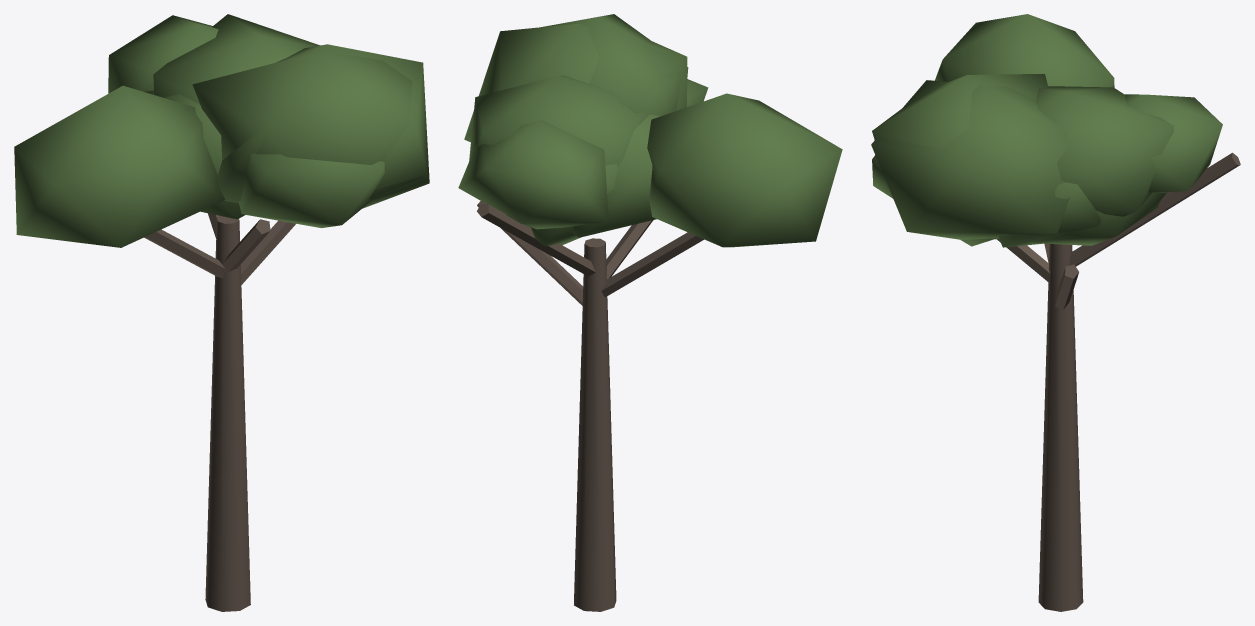
The model's file is ZR_Tree.fbx.
3 renders of one model, left to right at view 1: azimuth 30°, elevation 25°; view 2: azimuth 150°, elevation 25°; view 3: azimuth 270°, elevation 25°, orthographic. The views are drawn at different scales.
Visible parts, largest first — view 1: ZR_Tree; view 2: ZR_Tree; view 3: ZR_Tree.
Boxes of the visible parts, <box> form: ZR_Tree: <box>14,14,429,611</box>; ZR_Tree: <box>458,14,842,611</box>; ZR_Tree: <box>871,14,1240,611</box>.
Bounding box in the file's own units: 3.65 × 5.42 × 3.31.
